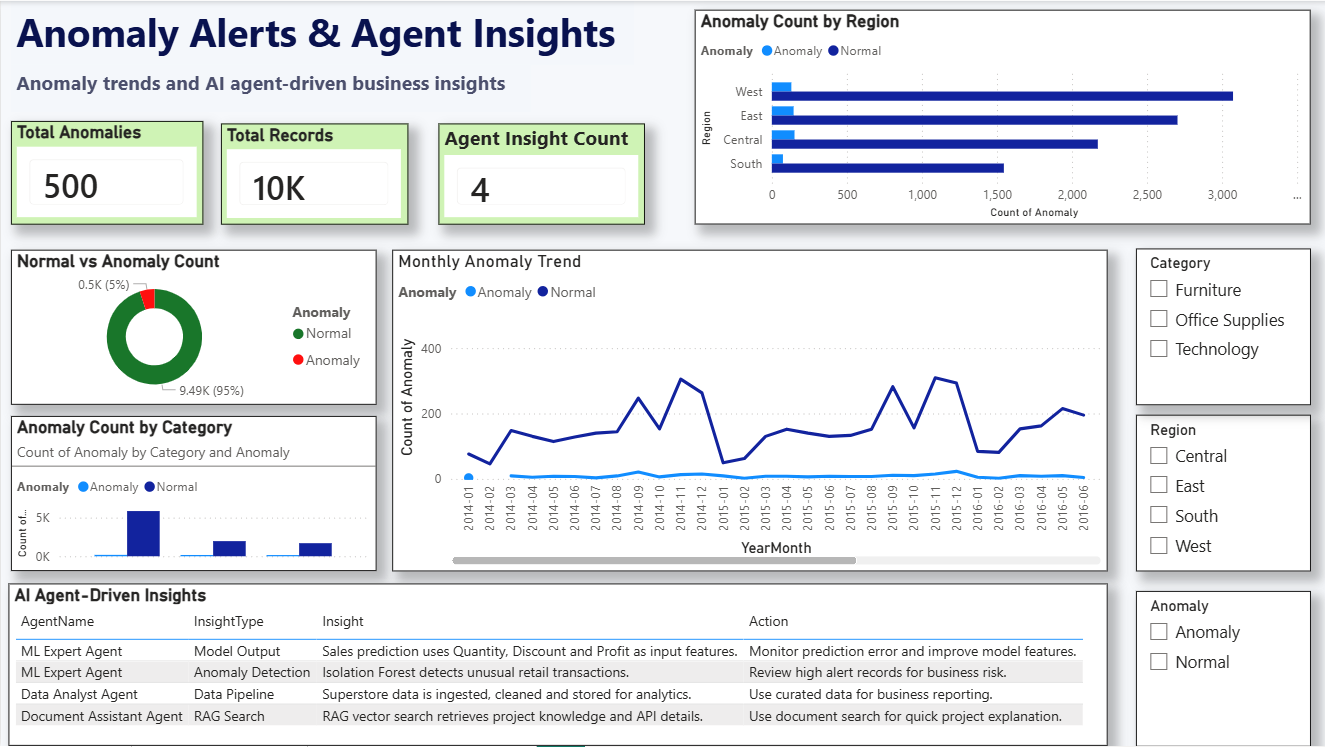

What the dashboard file says about the page in this screenshot:
{"tool":"powerbi","page":{"name":"Anomaly & Agent Insights","canvas":[1280,720],"ordinal":2},"visuals":[{"type":"textbox","box":[9.6,0,601,61.7],"z":0},{"type":"textbox","box":[9.7,61.5,501.9,45.8],"z":1000},{"type":"cardVisual","title":"Total Anomalies","fields":{"Data":["agent_insights.Total Anomaly Alerts"]},"box":[9.7,115.8,185.8,100.1],"z":2000},{"type":"cardVisual","title":"Total Records","fields":{"Data":["agent_insights.KPI Total Records"]},"box":[212.3,118.2,181,97.7],"z":3000},{"type":"donutChart","title":"Normal vs Anomaly Count","fields":{"Category":["anomaly_alerts.Anomaly"],"Y":["CountNonNull(anomaly_alerts.Anomaly)"]},"box":[9.6,240.1,352.7,149.6],"z":4000},{"type":"clusteredBarChart","title":"Anomaly Count by Region","fields":{"Category":["anomaly_alerts.Region"],"Y":["CountNonNull(anomaly_alerts.Anomaly)"],"Series":["anomaly_alerts.Anomaly"]},"box":[669.6,8.4,594.8,207.5],"z":5000},{"type":"clusteredColumnChart","title":"Anomaly Count by Category","fields":{"Category":["anomaly_alerts.Category"],"Y":["CountNonNull(anomaly_alerts.Anomaly)"],"Series":["anomaly_alerts.Anomaly"]},"box":[9.6,400.7,352.7,149.6],"z":6000},{"type":"lineChart","title":"Monthly Anomaly Trend","fields":{"Category":["anomaly_alerts.YearMonth.Variation.Date Hierarchy.Year"],"Y":["CountNonNull(anomaly_alerts.Anomaly)"],"Series":["anomaly_alerts.Anomaly"]},"box":[377.6,240.1,690.1,310.1],"z":7000},{"type":"tableEx","title":"AI Agent-Driven Insights","fields":{"Values":["agent_insights.AgentName","agent_insights.InsightType","agent_insights.Insight","agent_insights.Action"]},"box":[6.9,562.6,1060.7,157.8],"z":8000},{"type":"slicer","fields":{"Values":["anomaly_alerts.Anomaly"]},"box":[1095,569.5,168.8,150.9],"z":9000},{"type":"slicer","fields":{"Values":["anomaly_alerts.Region"]},"box":[1095,399.3,168.8,150.9],"z":10000},{"type":"slicer","fields":{"Values":["anomaly_alerts.Category"]},"box":[1095,238.8,168.8,150.9],"z":11000},{"type":"cardVisual","title":"Agent Insight Count","fields":{"Data":["agent_insights.Agent Insight Count"]},"box":[422.3,118.2,199.1,97.7],"z":12000}]}

Visuals, with their boxes in screenshot pixels (x1, y1, x2, y2), scaled from the page's 1280x720 canvas onto the 1325x747 screenshot:
textbox: [left=10, top=0, right=632, bottom=64]
textbox: [left=10, top=64, right=530, bottom=111]
"Total Anomalies" cardVisual: [left=10, top=120, right=202, bottom=224]
"Total Records" cardVisual: [left=220, top=123, right=407, bottom=224]
"Normal vs Anomaly Count" donutChart: [left=10, top=249, right=375, bottom=404]
"Anomaly Count by Region" clusteredBarChart: [left=693, top=9, right=1309, bottom=224]
"Anomaly Count by Category" clusteredColumnChart: [left=10, top=416, right=375, bottom=571]
"Monthly Anomaly Trend" lineChart: [left=391, top=249, right=1105, bottom=571]
"AI Agent-Driven Insights" tableEx: [left=7, top=584, right=1105, bottom=746]
slicer - anomaly_alerts.Anomaly: [left=1133, top=591, right=1308, bottom=746]
slicer - anomaly_alerts.Region: [left=1133, top=414, right=1308, bottom=571]
slicer - anomaly_alerts.Category: [left=1133, top=248, right=1308, bottom=404]
"Agent Insight Count" cardVisual: [left=437, top=123, right=643, bottom=224]
